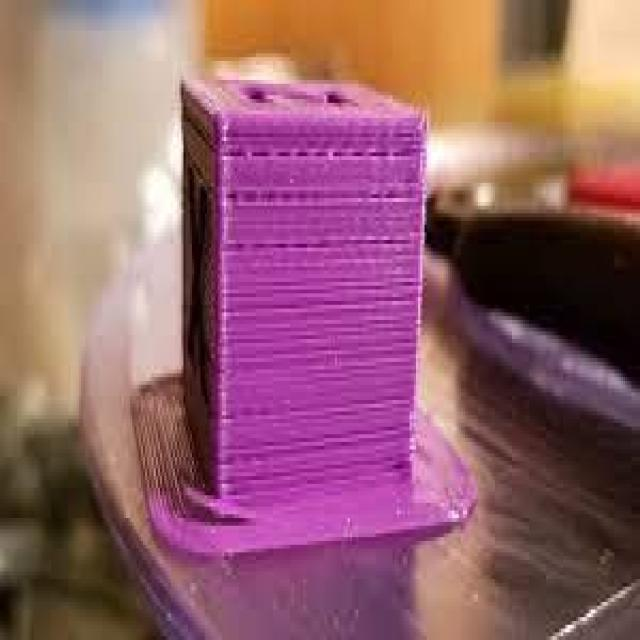cracks: (222, 133, 425, 220), (218, 392, 288, 510), (219, 232, 417, 257), (372, 438, 417, 492)
